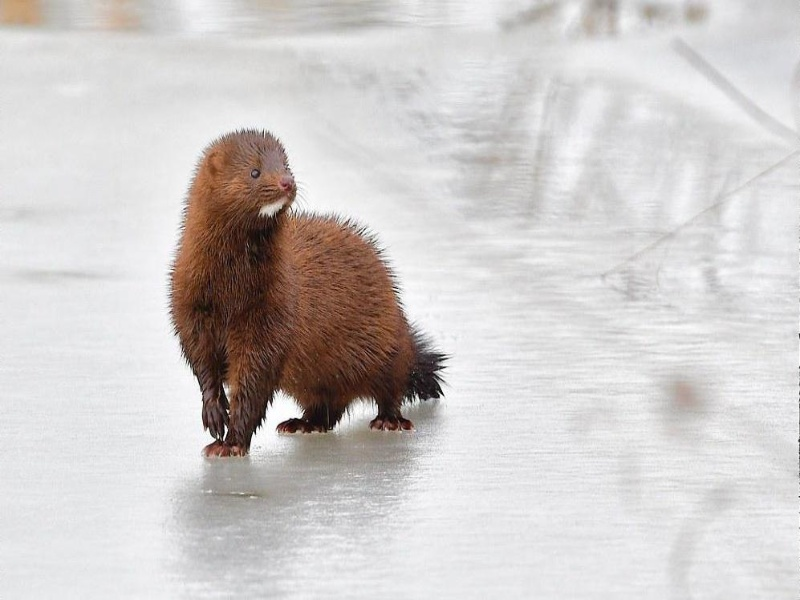minkish: (164, 125, 451, 459)
